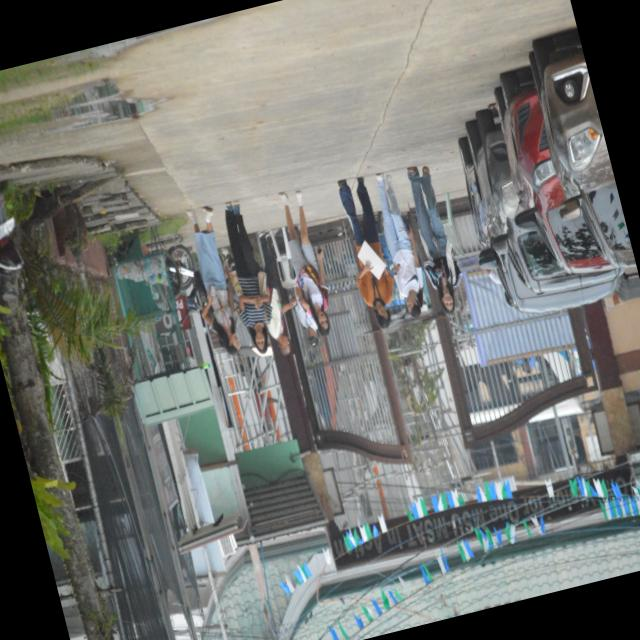person: (406, 166, 460, 312), (186, 206, 239, 354), (278, 190, 329, 335), (224, 201, 271, 353), (376, 173, 422, 318), (258, 231, 295, 355), (337, 177, 381, 257)
